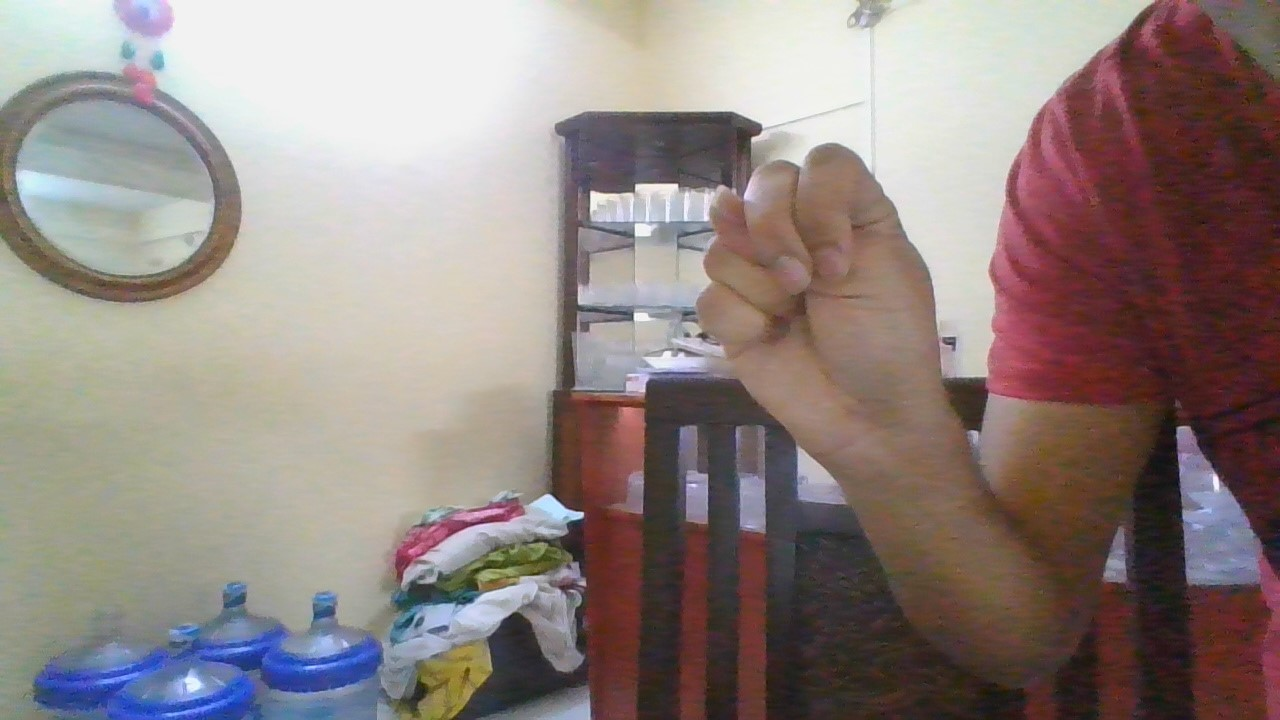n: (691, 141, 972, 457)
